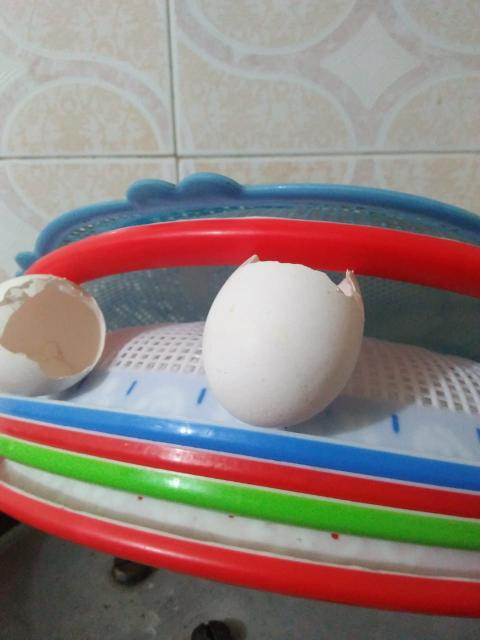Roto: (200, 253, 365, 428), (0, 272, 106, 398)
